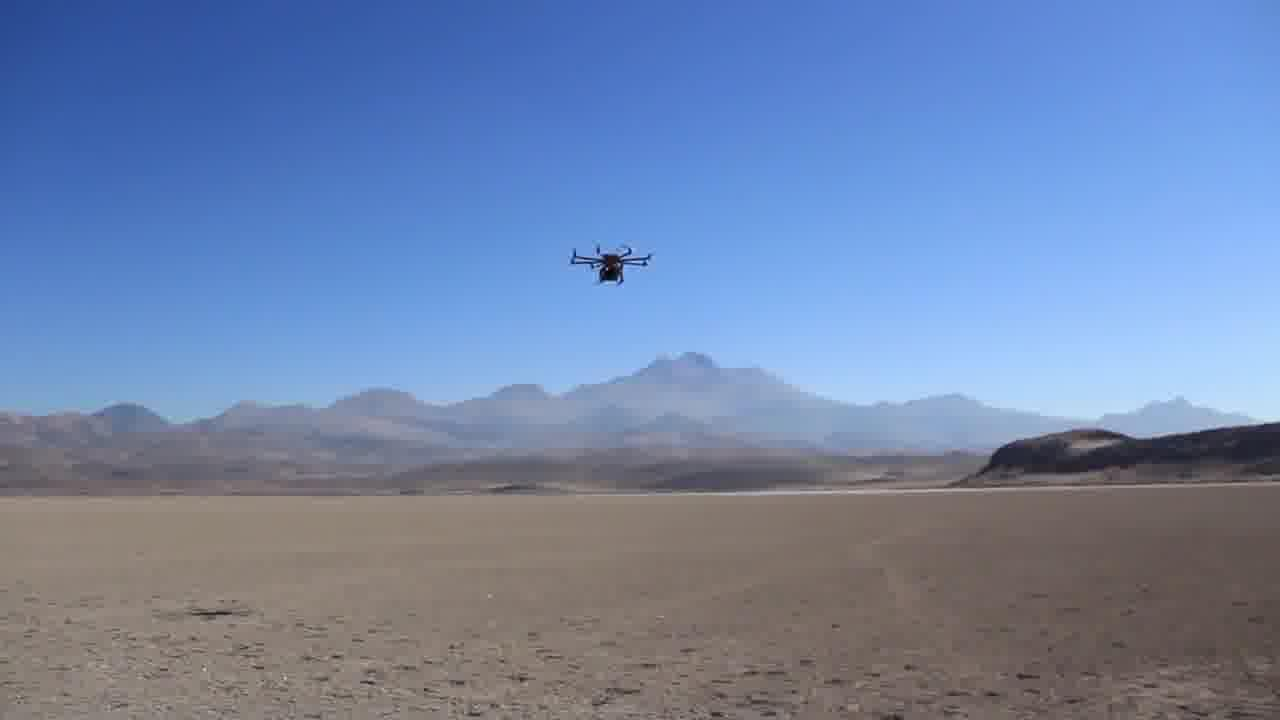drone: (563, 237, 654, 293)
